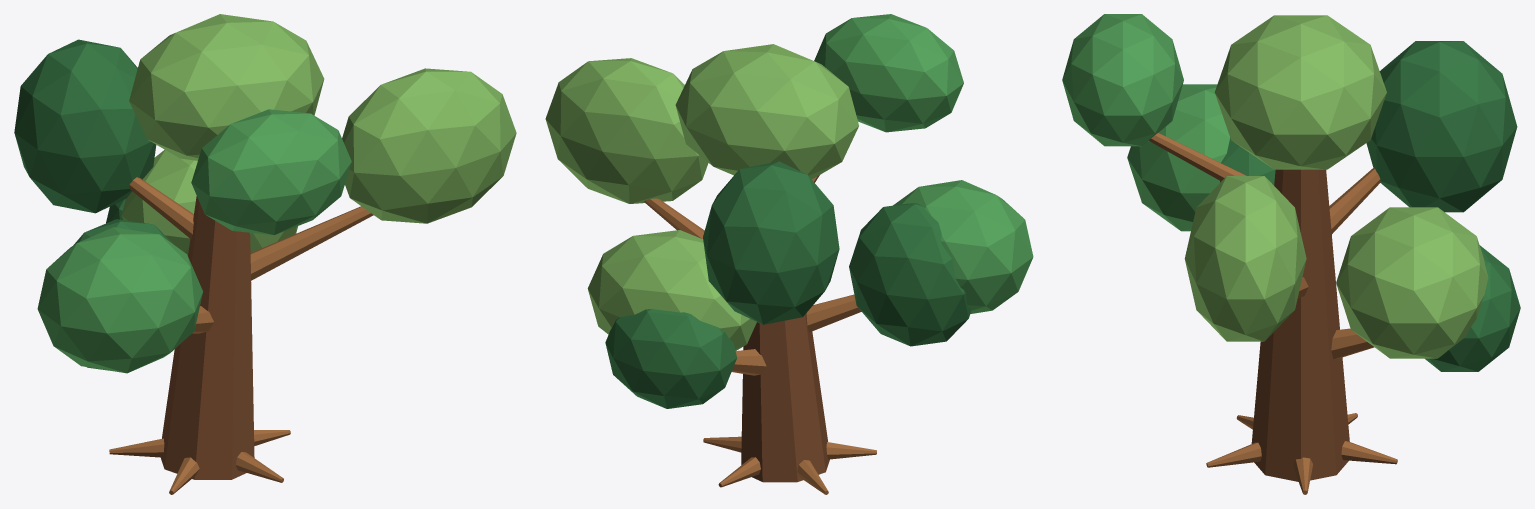
File: tree_b.glb
3 renders of one model, left to right at view 1: azimuth 30°, elevation 25°; view 2: azimuth 150°, elevation 25°; view 3: azimuth 270°, elevation 25°, orthographic. The views are drawn at different scales.
Parts seen in each view (by area): view 1: TREE_B; view 2: TREE_B; view 3: TREE_B.
Boxes of the visible parts, bbox=[...] form: TREE_B: bbox=[14, 14, 516, 494]; TREE_B: bbox=[545, 14, 1033, 494]; TREE_B: bbox=[1062, 14, 1520, 494].
Size of the model in its own units: 5.37 by 4.69 by 4.36.
